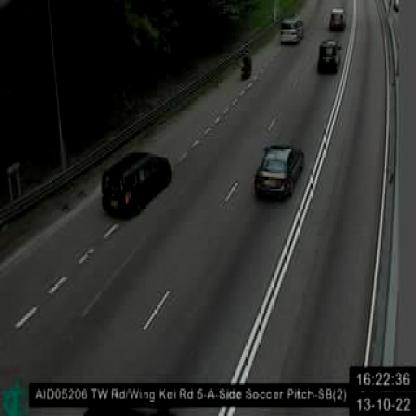Car: (101, 150, 172, 218), (254, 145, 304, 202), (316, 39, 342, 74), (279, 16, 305, 44), (330, 9, 348, 32)
